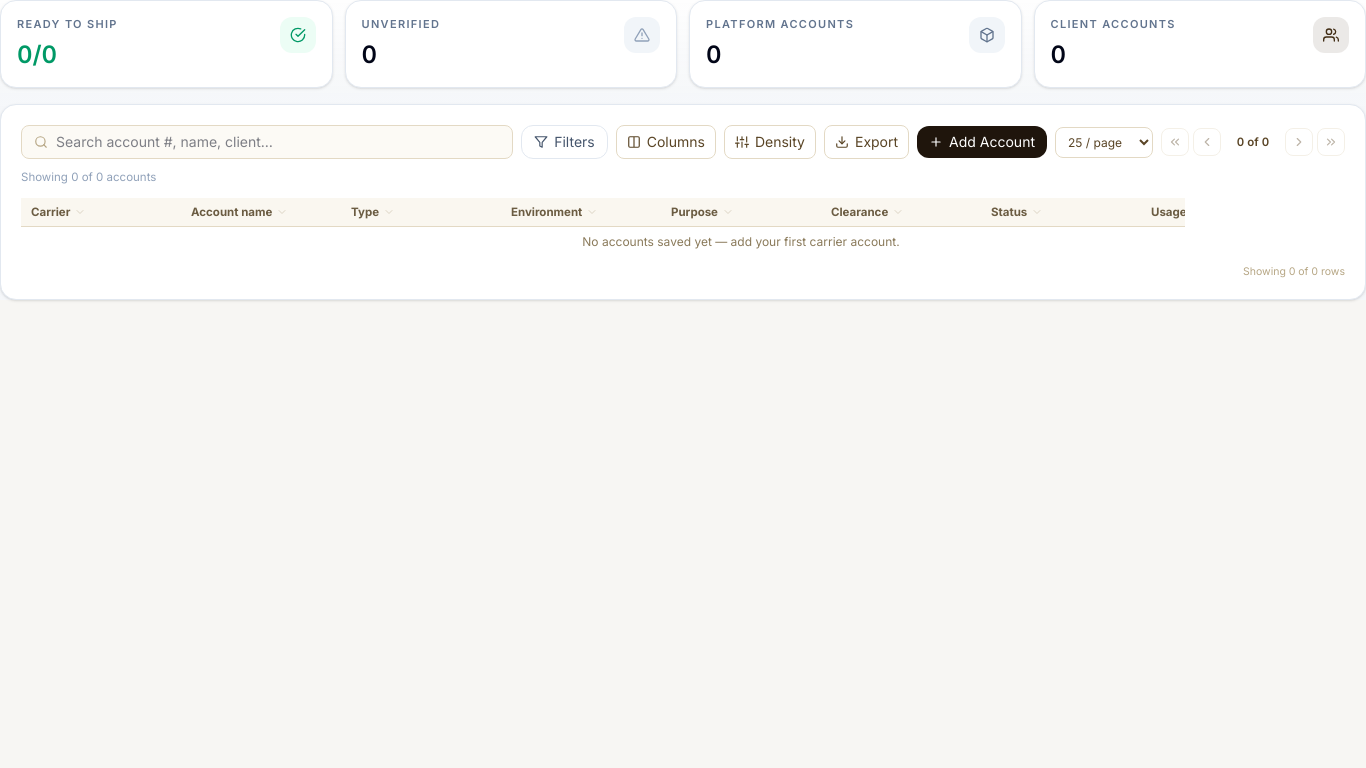
Scenario: CarrierConnections · USPS drawer · PROVISIONING mode › renders BOTH Stamps.com and USPS Direct fields with the appropriate pills
Click the button "Add Account" at (982, 142), box x1=917 y1=126 x2=1047 y2=158
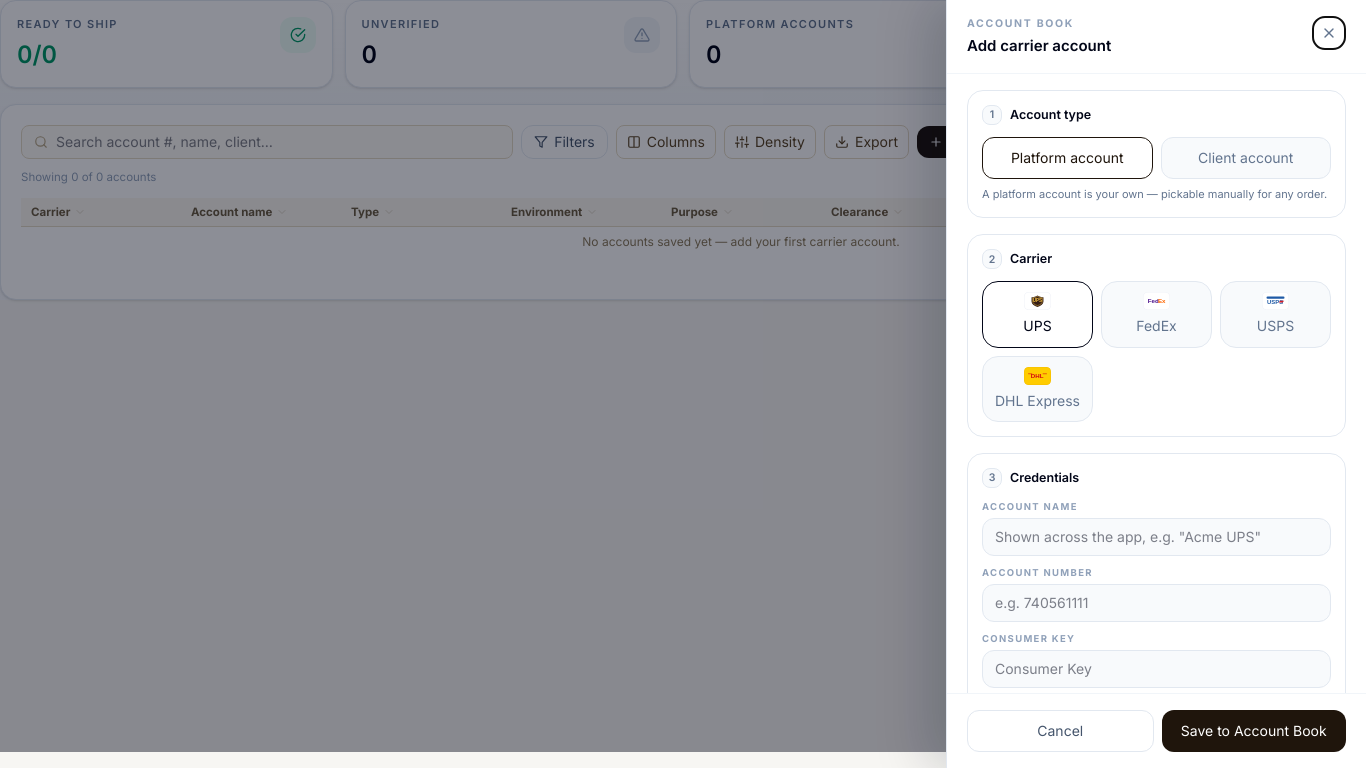
Click the radio button labelled "USPS" at (1276, 314), box x1=1220 y1=281 x2=1331 y2=348
(page scrolled)
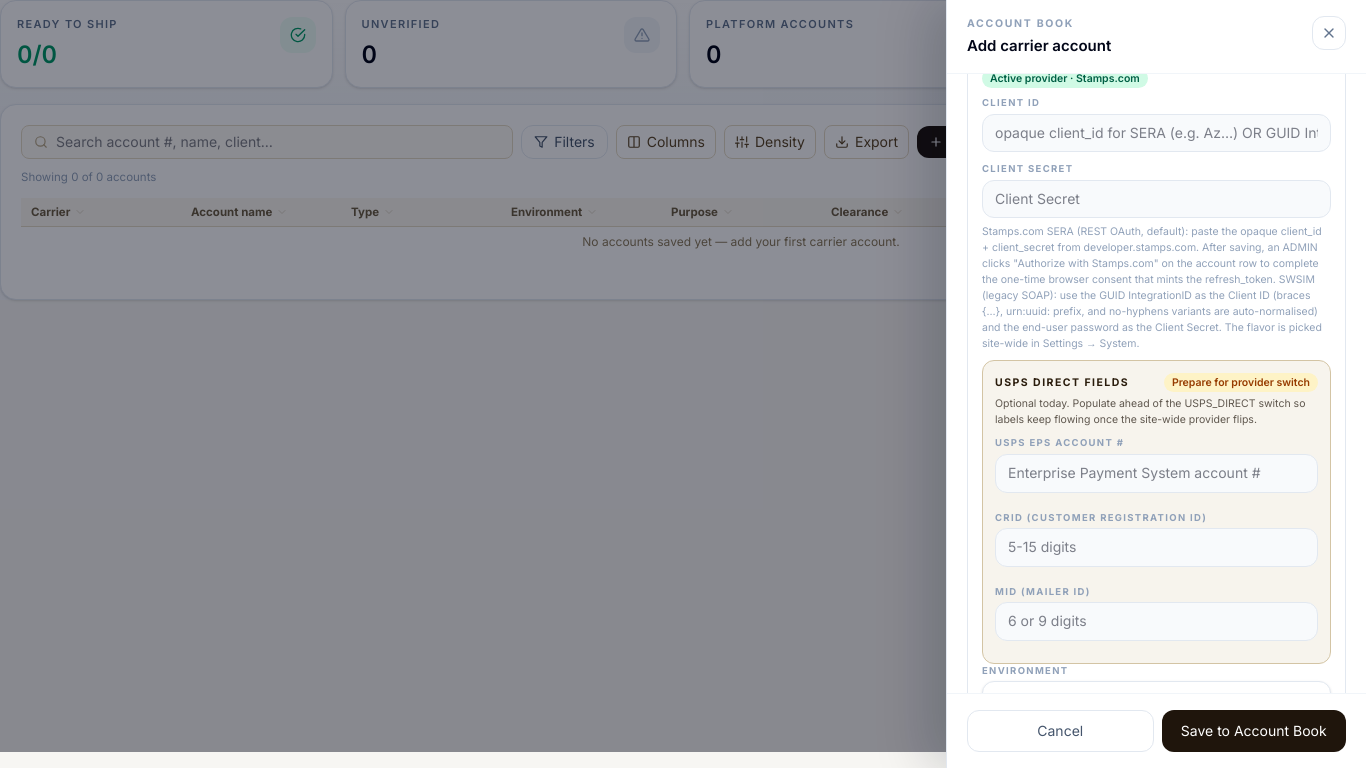
Check: the text "USPS Direct fields" is shown, box x1=995 y1=375 x2=1129 y2=390
Check: the text "Active provider · Stamps.com" is shown, box x1=982 y1=74 x2=1148 y2=88
Check: the text "Prepare for provider switch" is shown, box x1=1164 y1=373 x2=1318 y2=392
